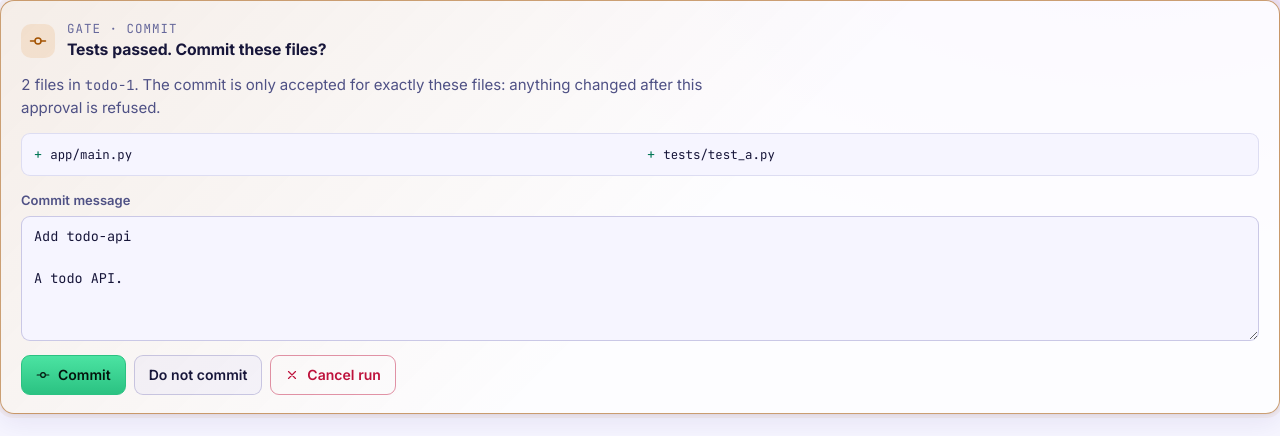
Test case: ApprovalPanel › shows the files and lets the message be edited before committing
The image size is (1280, 436).
Later steps or results of the test are not shown.
Expected: the text "tests/test_a.py" is shown, left=663, top=146, right=775, bottom=163
Clear the text box labelled "Commit message" at {"x": 640, "y": 279}, box left=21, top=216, right=1259, bottom=341
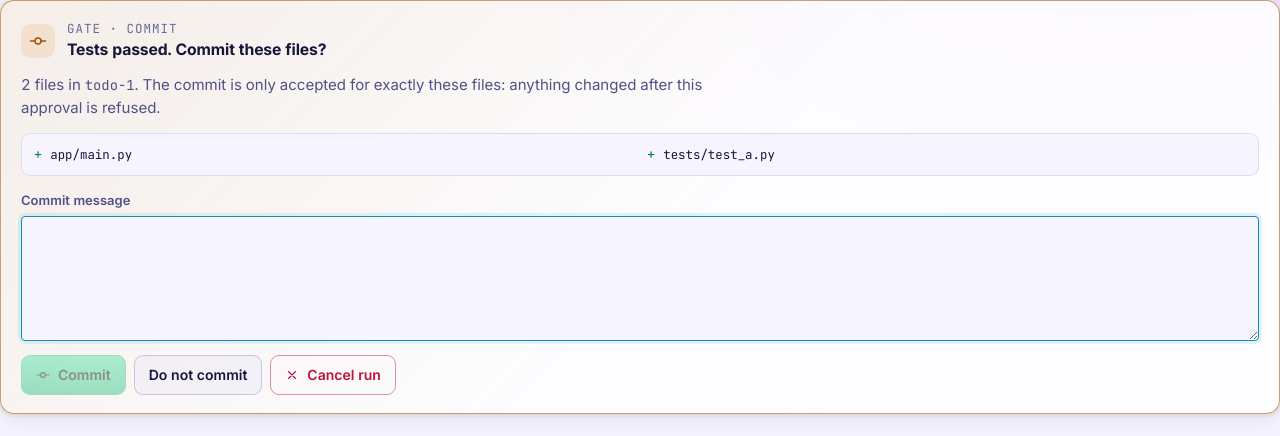
Now the button "Commit" is disabled, box left=21, top=355, right=126, bottom=395
